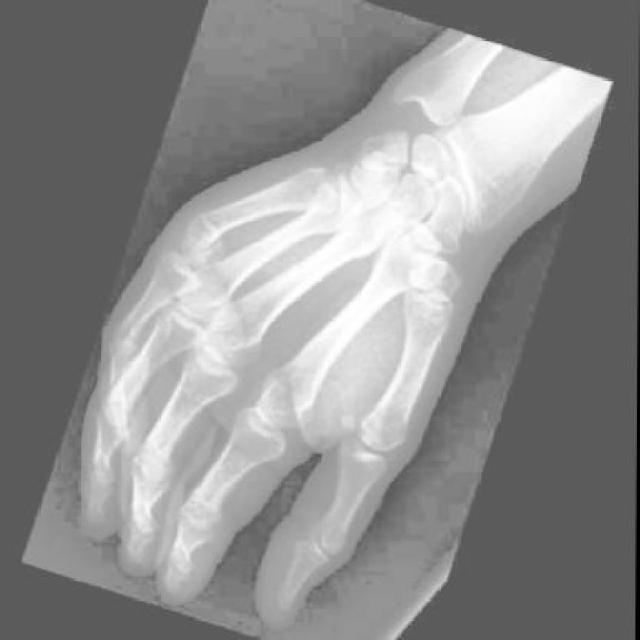Fracture: (171, 198, 238, 254)
